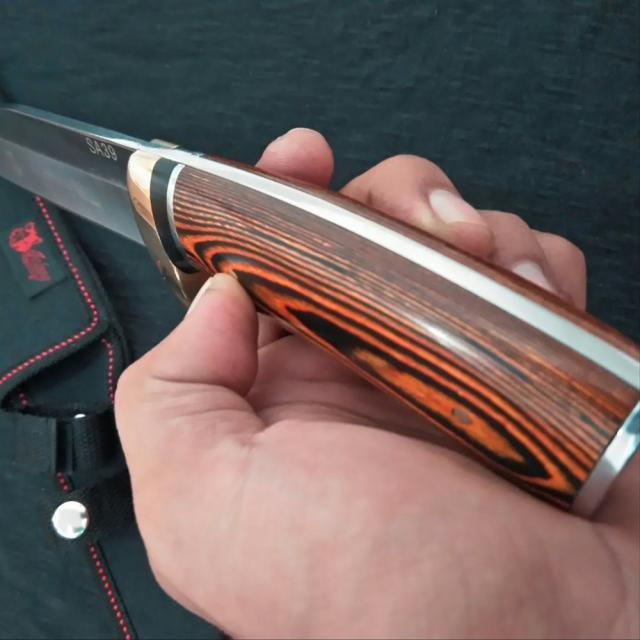Pisau: (0, 99, 640, 510)
